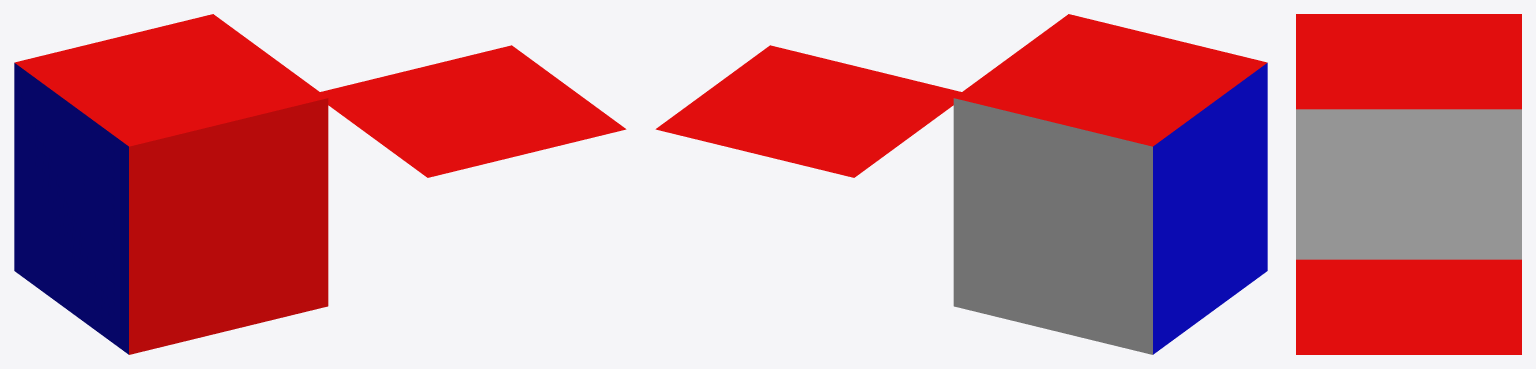
Rendered from multi_material.out_multi.glb.
The picture shows the model from 3 angles, left to right: view 1: azimuth 30°, elevation 25°; view 2: azimuth 150°, elevation 25°; view 3: azimuth 270°, elevation 25°; orthographic projection.
Visible parts, largest first — view 1: Cube, Plane; view 2: Cube, Plane; view 3: Cube, Plane.
Boxes of the visible parts, left/top/right/bottom form: Cube: left=14, top=14, right=328, bottom=354; Plane: left=320, top=45, right=626, bottom=177; Cube: left=953, top=14, right=1267, bottom=354; Plane: left=655, top=45, right=961, bottom=177; Cube: left=1296, top=14, right=1521, bottom=259; Plane: left=1296, top=259, right=1521, bottom=354.
Size of the model in its own units: 5 by 2 by 2.
